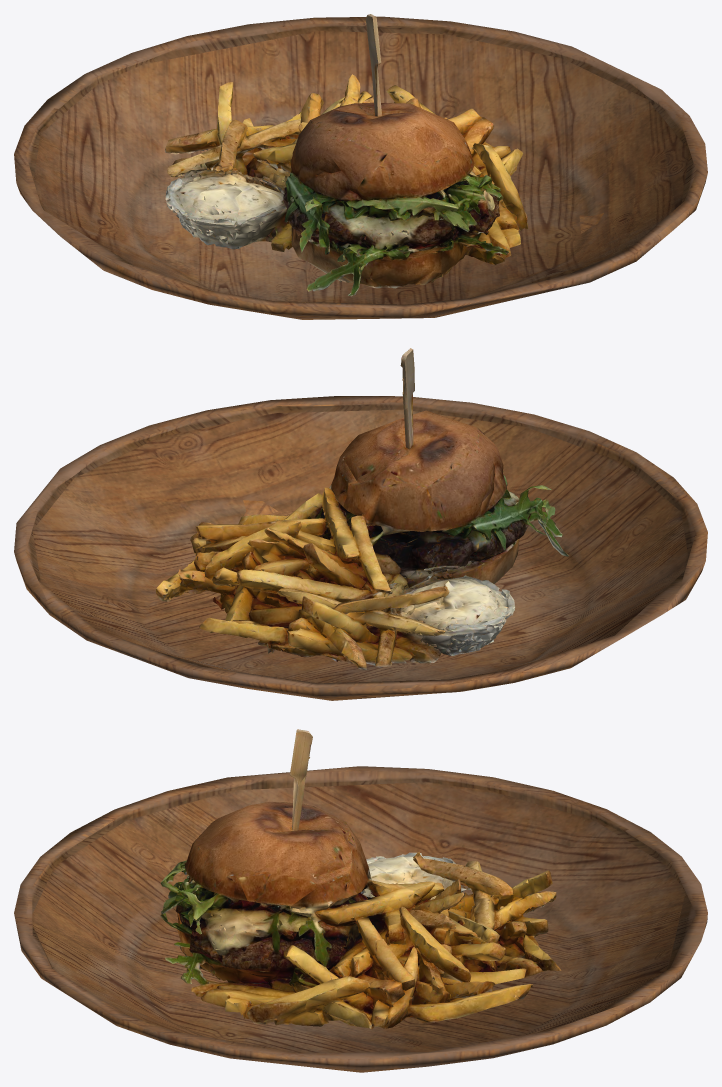
The model's file is burger-v2.glb.
3 views of the same model, one above another, from view 1: azimuth 30°, elevation 25°; view 2: azimuth 150°, elevation 25°; view 3: azimuth 270°, elevation 25° (orthographic).
Parts seen in each view (by area): view 1: Plate, Object_2; view 2: Plate, Object_2; view 3: Plate, Object_2.
Part boxes in pixels (left/top/right/bottom): Plate: left=14, top=16, right=707, bottom=319; Object_2: left=165, top=14, right=528, bottom=296; Plate: left=14, top=396, right=707, bottom=700; Object_2: left=156, top=348, right=569, bottom=669; Plate: left=14, top=766, right=707, bottom=1072; Object_2: left=160, top=729, right=561, bottom=1029.
Bounding box in the file's own units: 0.2583 × 0.1005 × 0.2583.
2 materials, 2 textured.
